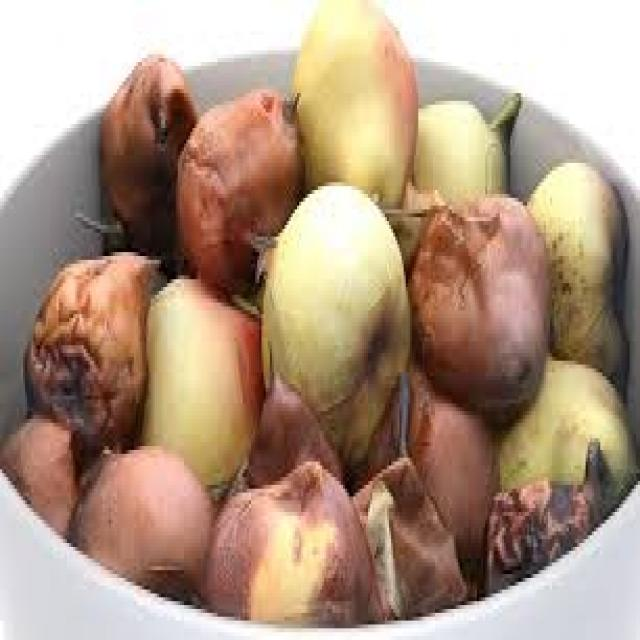organic waste: (249, 174, 408, 454), (399, 178, 548, 408), (348, 364, 464, 620), (23, 233, 161, 446), (132, 271, 264, 485), (205, 462, 376, 624), (174, 81, 306, 287), (288, 0, 414, 213), (525, 144, 630, 392), (366, 368, 494, 566), (67, 434, 209, 594), (481, 438, 613, 598), (494, 349, 636, 493), (98, 51, 197, 252), (402, 89, 520, 248), (240, 338, 336, 477), (0, 403, 75, 535)
